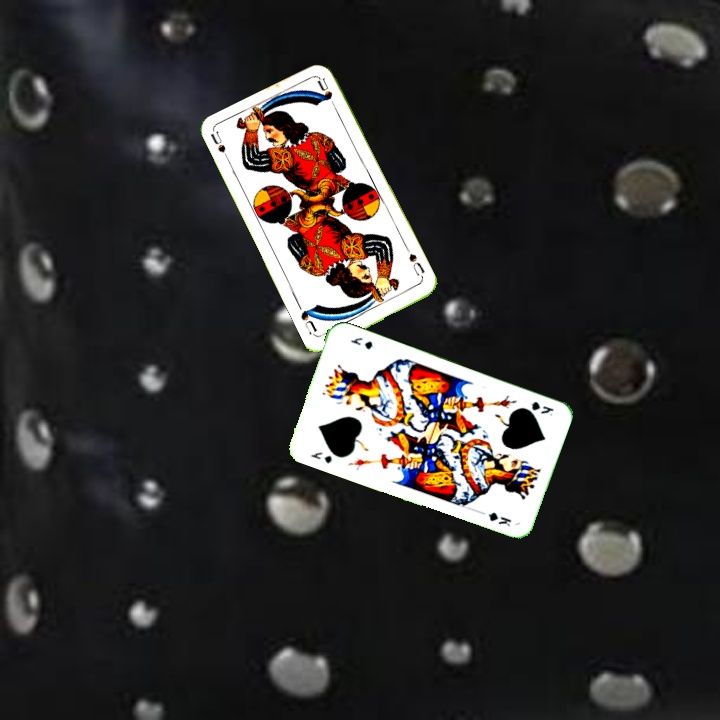GK: (527, 397, 556, 419), (307, 448, 334, 466)
SU: (207, 128, 234, 167), (405, 249, 427, 283)
